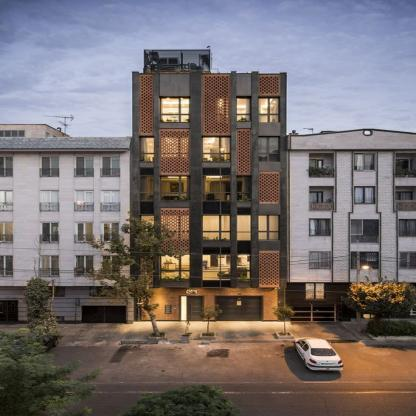Building Outline: (131, 45, 288, 321)
Deco: (165, 305, 172, 314), (186, 289, 198, 294)
Door: (217, 297, 261, 321), (188, 297, 202, 321)
Facade: (131, 46, 287, 322)
Floor Slab: (132, 281, 286, 286), (132, 123, 286, 128), (132, 201, 286, 206), (132, 241, 286, 246), (132, 163, 286, 167)
Pillar: (189, 73, 203, 288), (251, 71, 259, 288), (153, 73, 161, 288), (132, 71, 139, 288), (231, 71, 237, 288), (280, 72, 286, 288)
Window: (161, 254, 190, 280), (161, 176, 190, 201), (161, 215, 190, 240), (203, 254, 230, 280), (161, 138, 190, 162), (203, 176, 230, 201), (203, 215, 230, 240), (161, 99, 190, 122), (203, 138, 229, 162), (259, 215, 279, 240), (260, 138, 278, 162), (260, 99, 278, 122), (237, 176, 251, 201), (237, 215, 251, 240), (238, 254, 250, 280), (141, 176, 153, 201), (141, 215, 153, 240), (142, 138, 154, 162), (237, 99, 249, 122), (217, 99, 228, 122), (181, 297, 187, 321)
